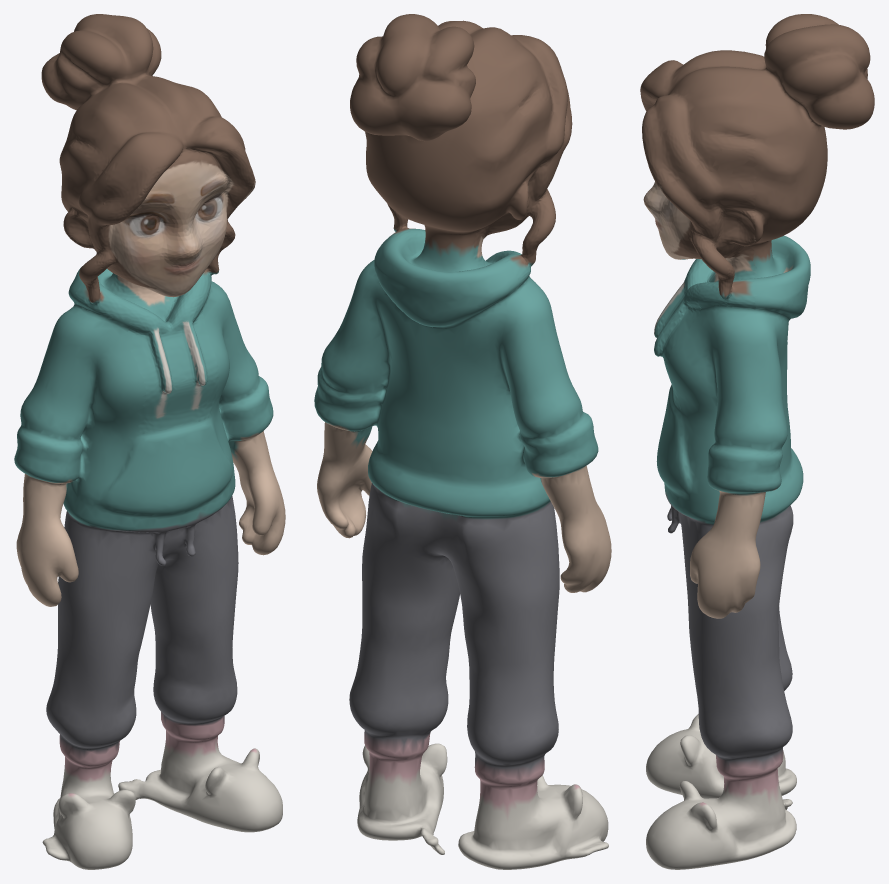
File: valeria_color.glb
The picture shows the model from 3 angles, left to right: view 1: azimuth 30°, elevation 25°; view 2: azimuth 150°, elevation 25°; view 3: azimuth 270°, elevation 25°; orthographic projection. The views are drawn at different scales.
Visible parts, largest first — view 1: geometry_0; view 2: geometry_0; view 3: geometry_0.
Boxes of the visible parts, x1,y1,x2,y2 form: geometry_0: [14, 14, 285, 869]; geometry_0: [314, 14, 611, 869]; geometry_0: [640, 14, 874, 869].
Bounding box in the file's own units: 0.6897 × 2 × 0.5309.
